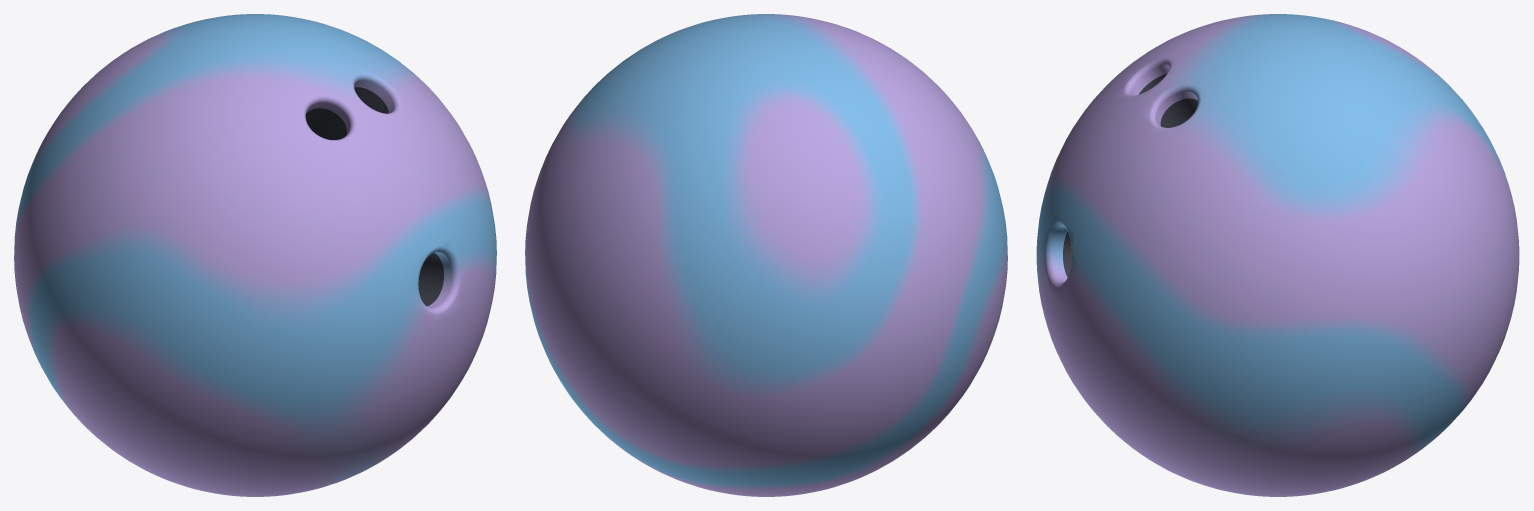
Rendered from bowling-ball.glb.
The picture shows the model from 3 angles, left to right: view 1: azimuth 30°, elevation 25°; view 2: azimuth 150°, elevation 25°; view 3: azimuth 270°, elevation 25°; orthographic projection.
Parts seen in each view (by area): view 1: bowling-ball_body, bowling-ball_hole_walls; view 2: bowling-ball_body; view 3: bowling-ball_body, bowling-ball_hole_walls.
Boxes of the visible parts, <box> form: bowling-ball_body: <box>14,14,496,496</box>; bowling-ball_hole_walls: <box>305,87,443,305</box>; bowling-ball_body: <box>525,14,1007,496</box>; bowling-ball_body: <box>1036,14,1519,496</box>; bowling-ball_hole_walls: <box>1063,74,1197,277</box>.
Size of the model in its own units: 0.216 by 0.216 by 0.216.
Materials: 2 (1 with a texture image).
